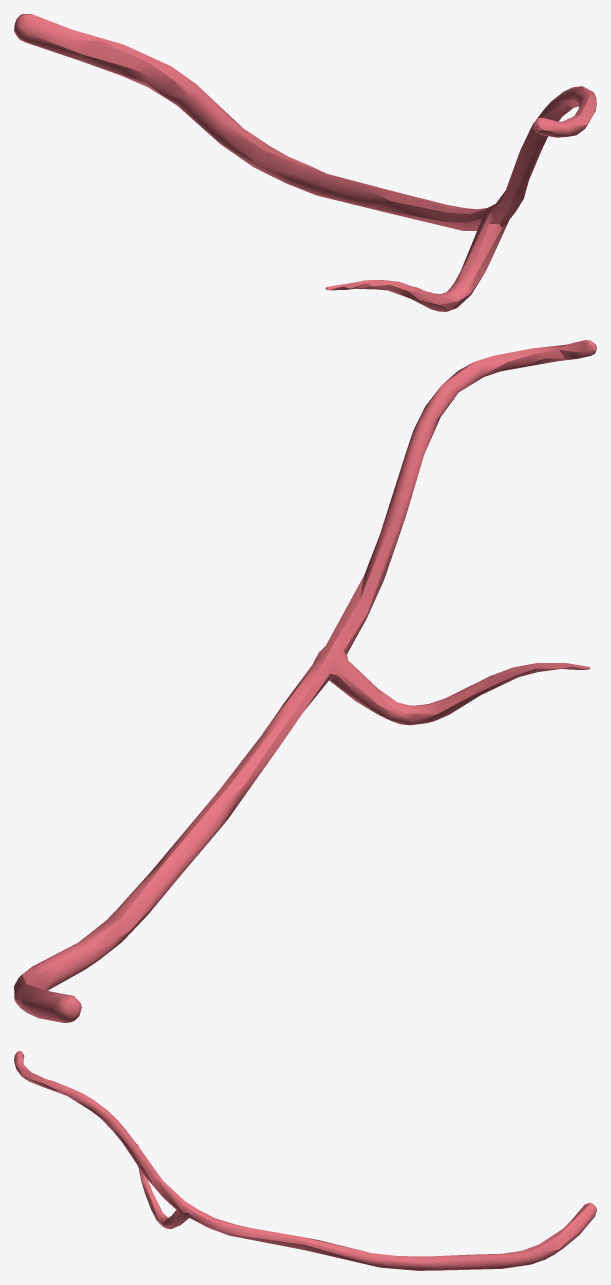
Rendered from fma50343_fj1690.glb.
3 renders of one model, top to bottom at view 1: azimuth 30°, elevation 25°; view 2: azimuth 150°, elevation 25°; view 3: azimuth 270°, elevation 25°, orthographic. The views are drawn at different scales.
Parts seen in each view (by area): view 1: FMA50343_FJ1690; view 2: FMA50343_FJ1690; view 3: FMA50343_FJ1690.
Boxes of the visible parts, left/top/right/bottom form: FMA50343_FJ1690: left=14, top=14, right=596, bottom=311; FMA50343_FJ1690: left=14, top=340, right=596, bottom=1022; FMA50343_FJ1690: left=14, top=1051, right=596, bottom=1270.
Size of the model in its own units: 0.0151 by 0.022 by 0.0602.
